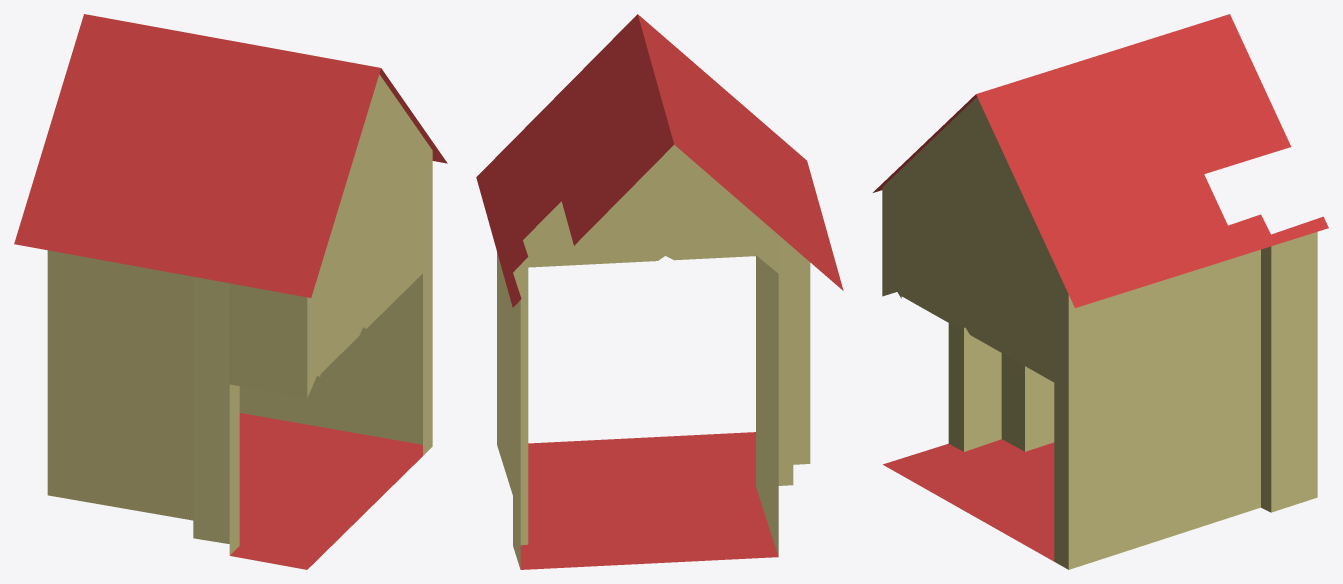
3 renders of one model, left to right at view 1: azimuth 30°, elevation 25°; view 2: azimuth 150°, elevation 25°; view 3: azimuth 270°, elevation 25°, orthographic. The views are drawn at different scales.
Size of the model in its own units: 15.51 by 15.36 by 15.9.
